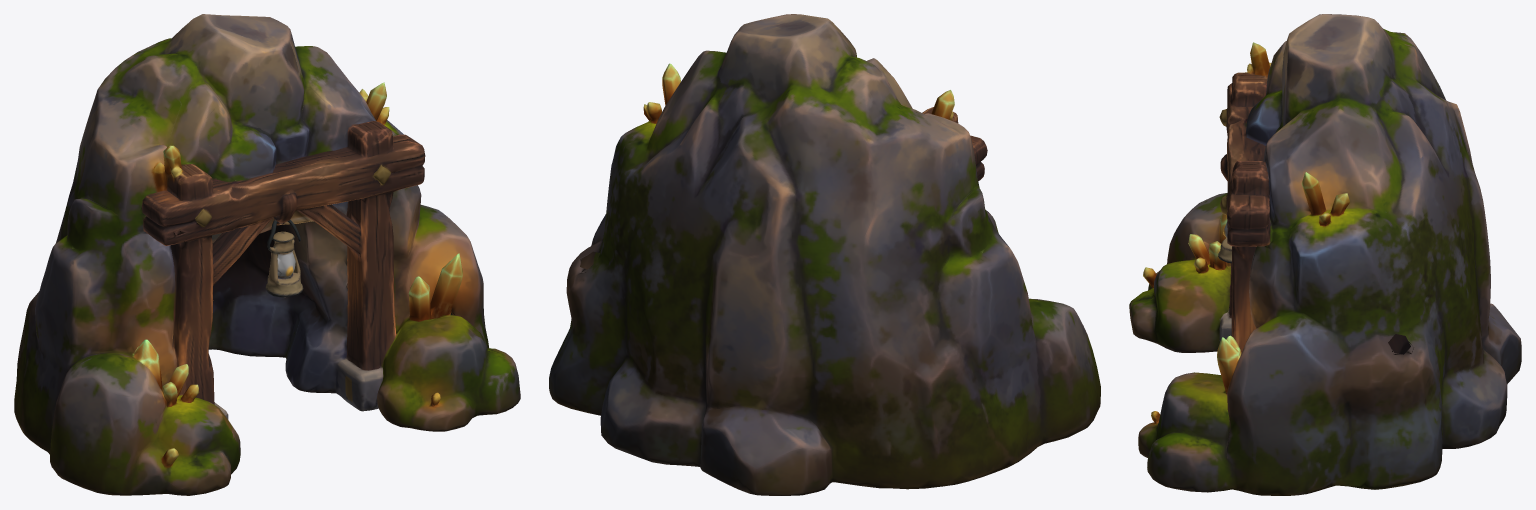
Rendered from env_cave_entrance.glb.
The picture shows the model from 3 angles, left to right: view 1: azimuth 30°, elevation 25°; view 2: azimuth 150°, elevation 25°; view 3: azimuth 270°, elevation 25°; orthographic projection. The views are drawn at different scales.
Visible parts, largest first — view 1: world; view 2: world; view 3: world.
Boxes of the visible parts, x1,y1,x2,y2 form: world: (14, 14, 520, 495); world: (549, 14, 1100, 495); world: (1129, 14, 1521, 495).
Bounding box in the file's own units: 1 × 0.7884 × 0.766.
1 material, 1 textured.
